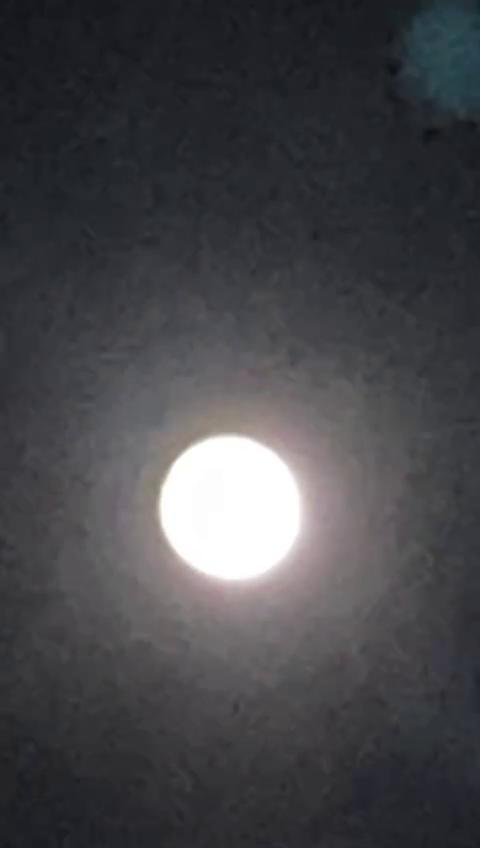moon: (132, 417, 310, 608)
